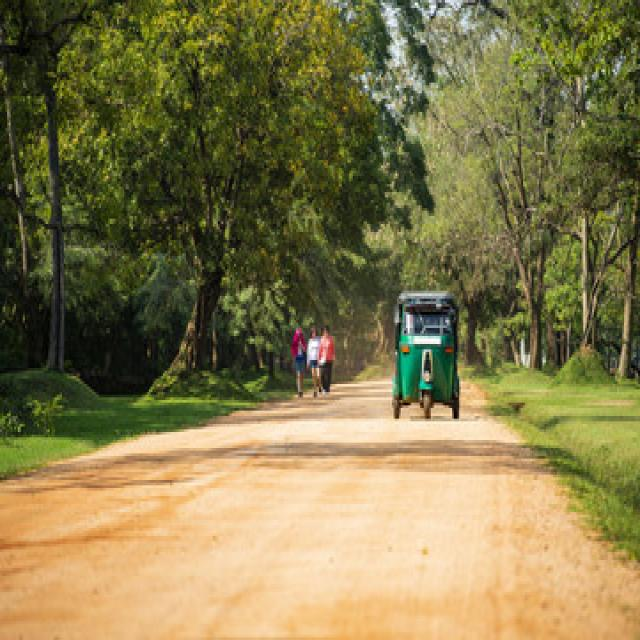person: (291, 328, 305, 397), (319, 328, 333, 395), (307, 328, 317, 397)
three wheeler: (394, 293, 457, 419)
